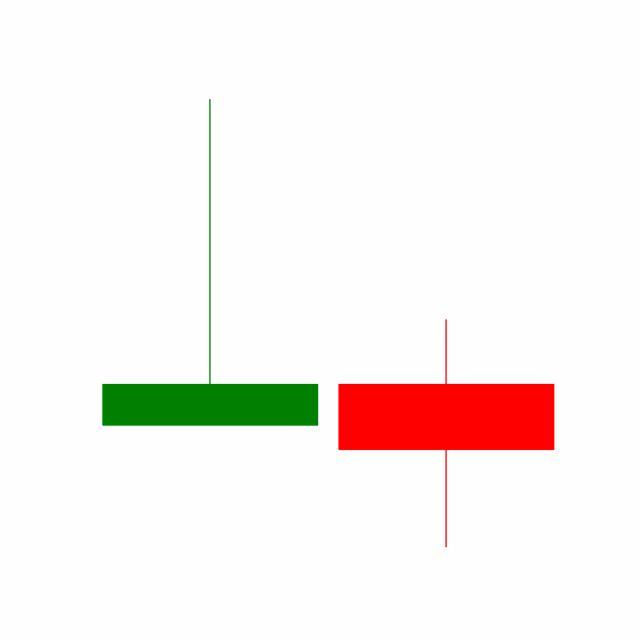Spinning Top: (328, 318, 566, 552)
